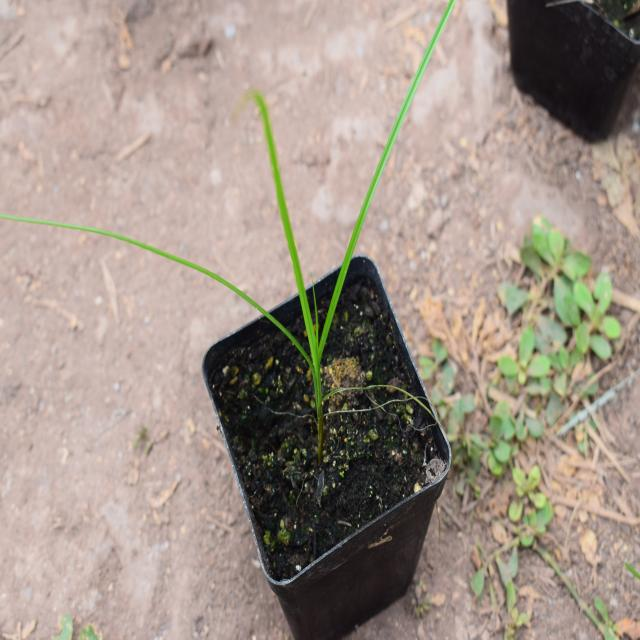sedge: (41, 71, 436, 403)
